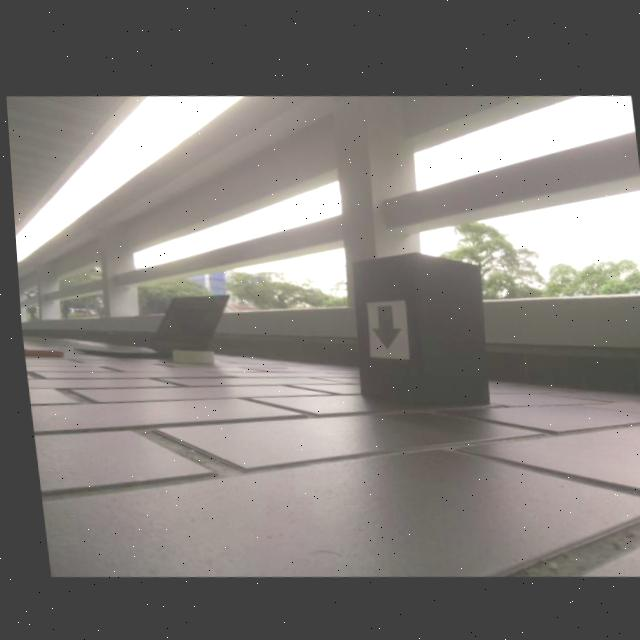DOWN: (367, 301, 398, 348)
